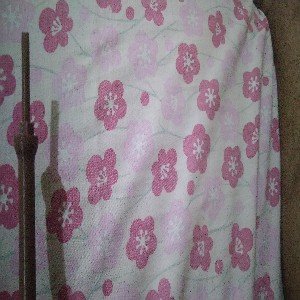obeng: (14, 30, 40, 300)
